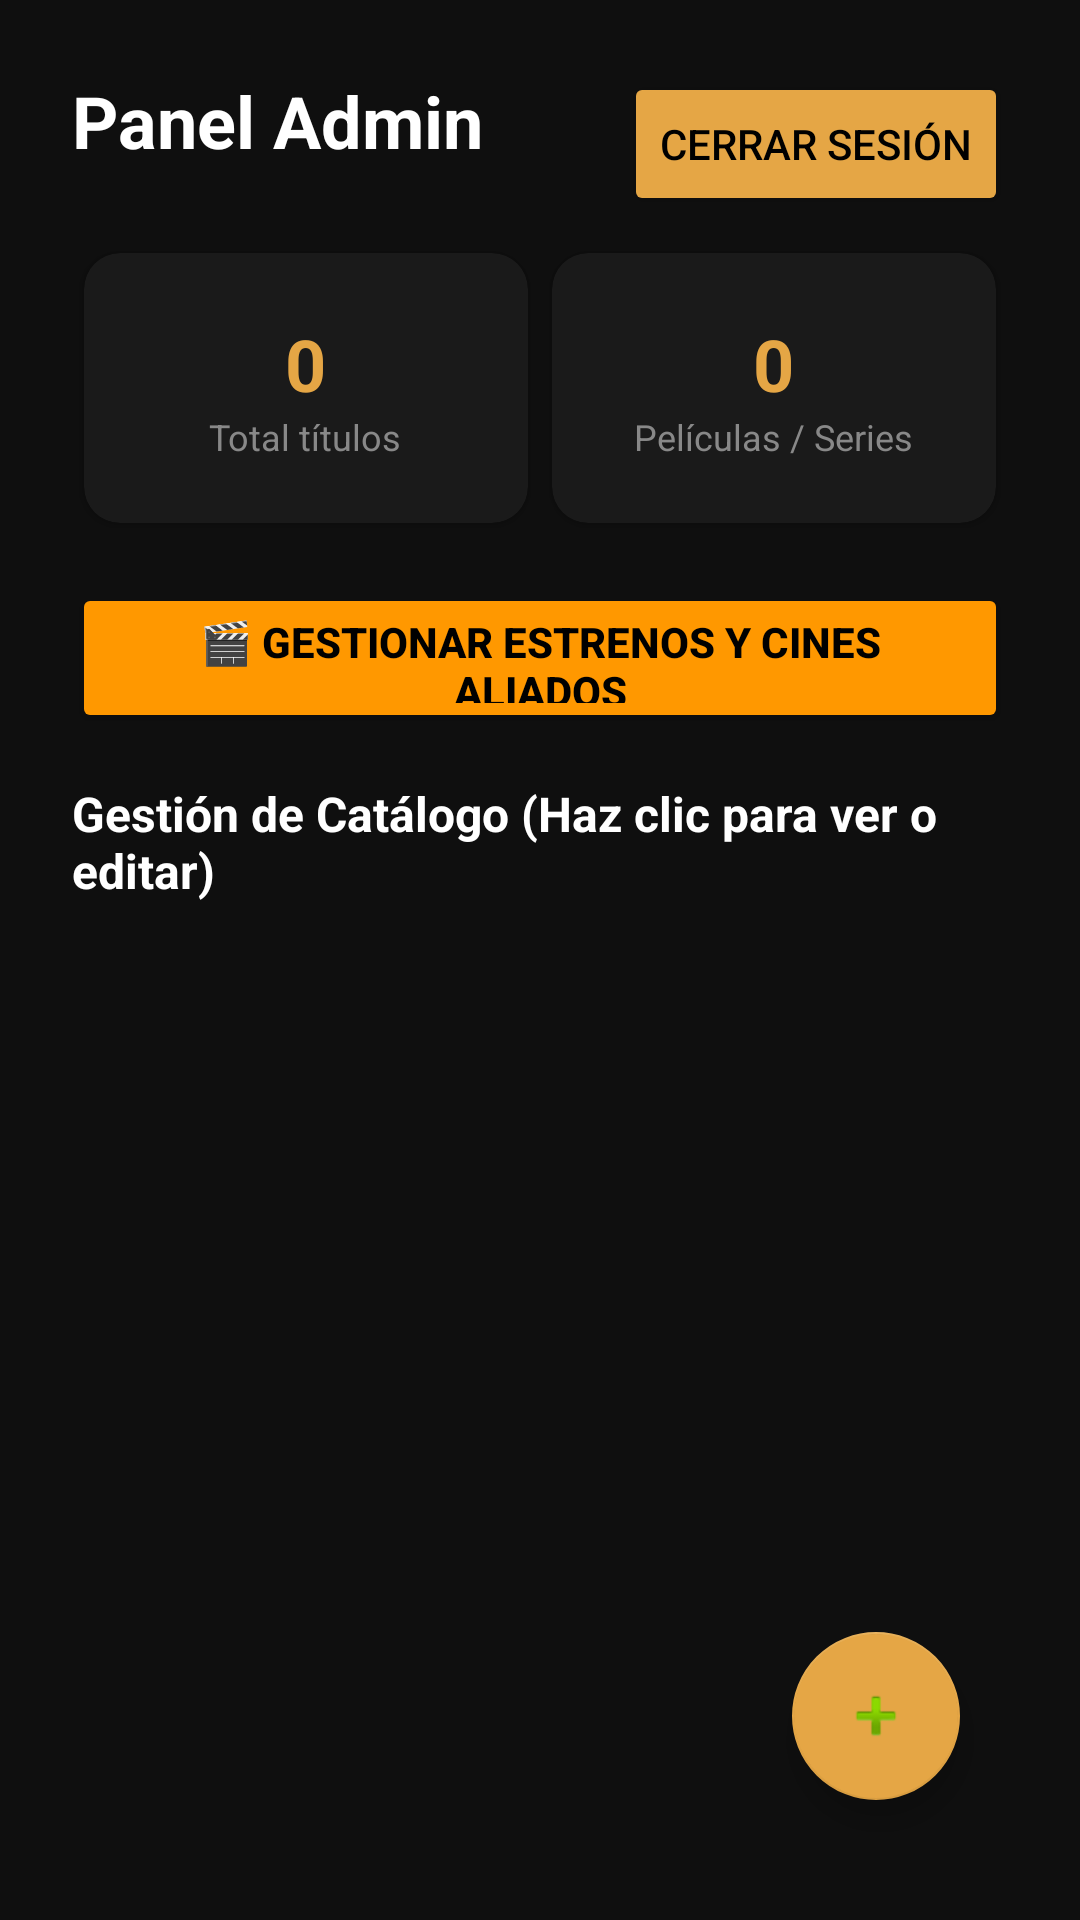

Screen size 1080×1920. Icon name, then its box in pixels as (x1, y1, x2, y2):
Agregar contenido: (792, 1632, 960, 1800)
